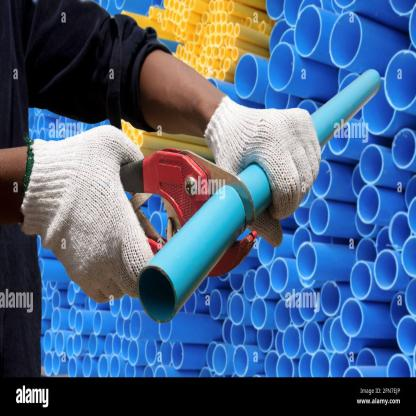PVC: (36, 238, 248, 376), (138, 166, 248, 322), (97, 0, 249, 105), (122, 119, 216, 163), (29, 107, 112, 140), (140, 195, 167, 238)
